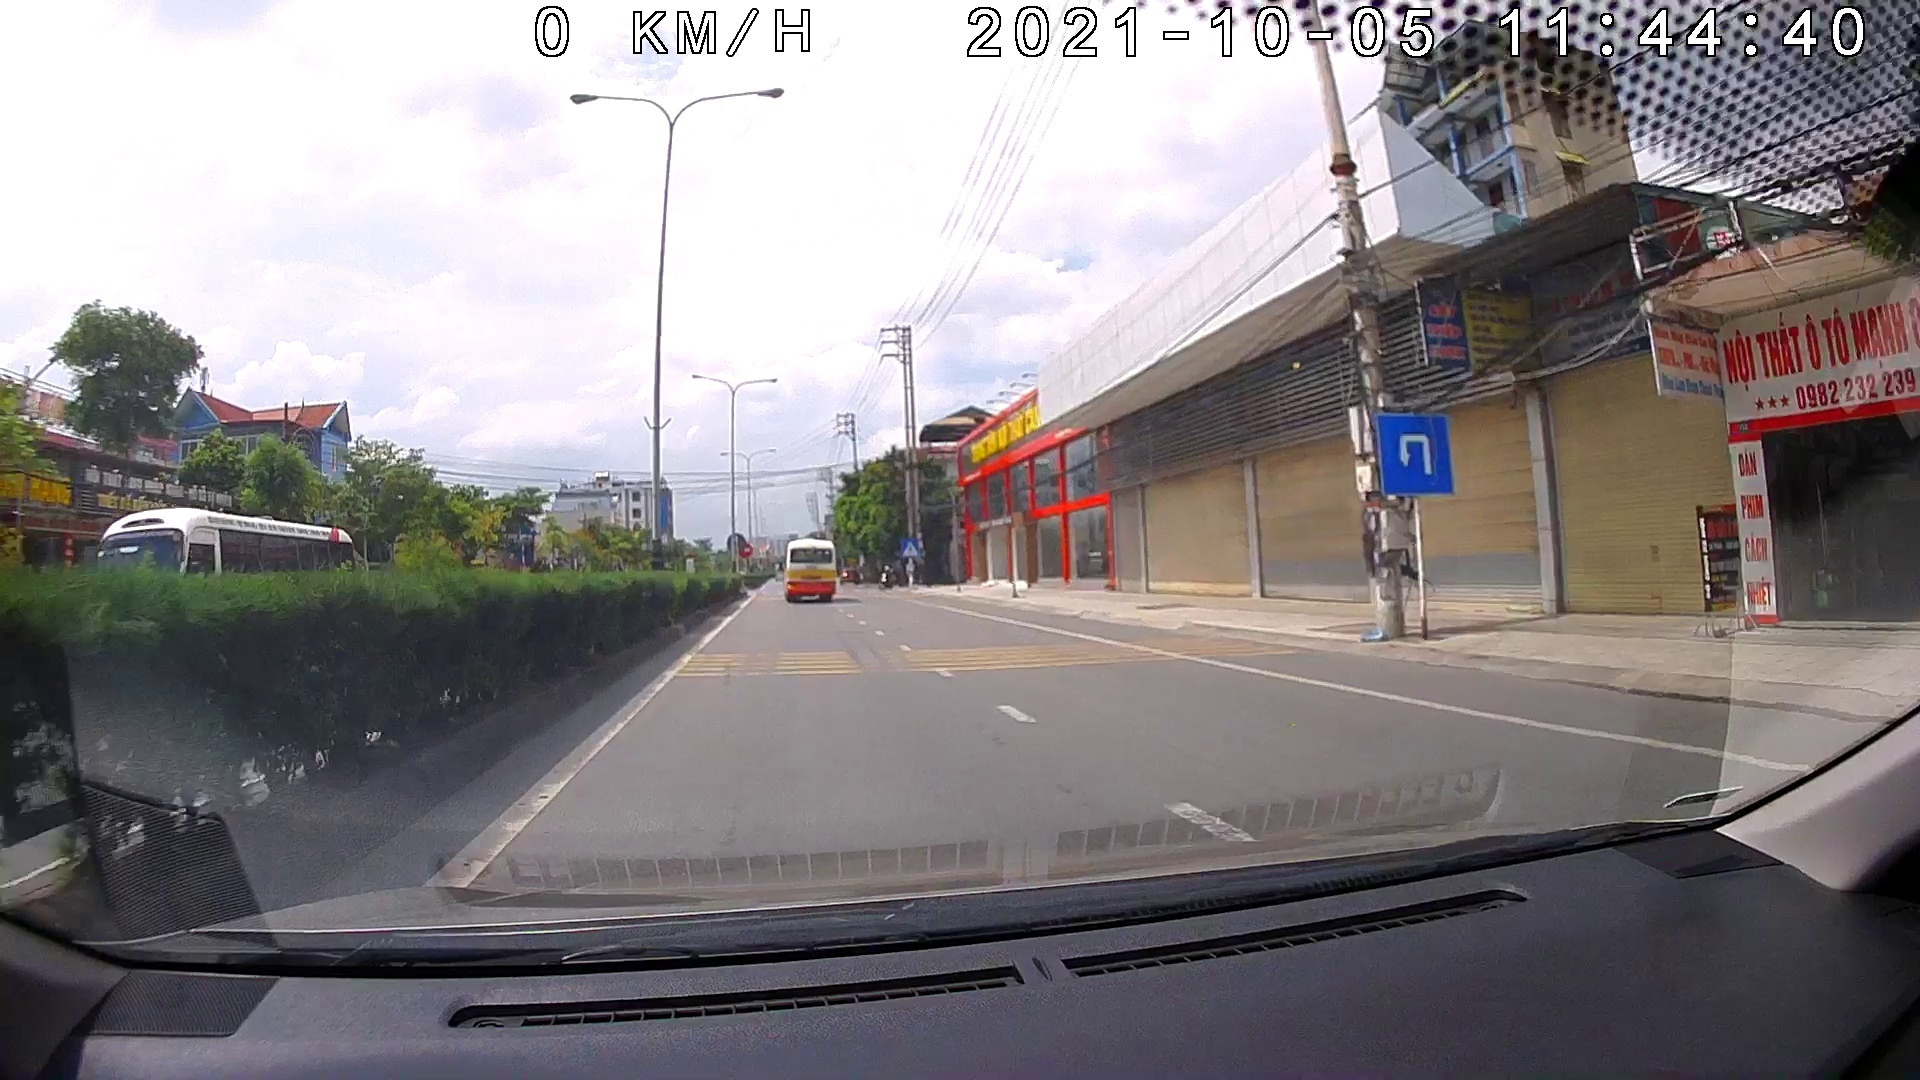Bien khac: (1371, 407, 1460, 497)
Nguoi di bo: (899, 537, 919, 556)
